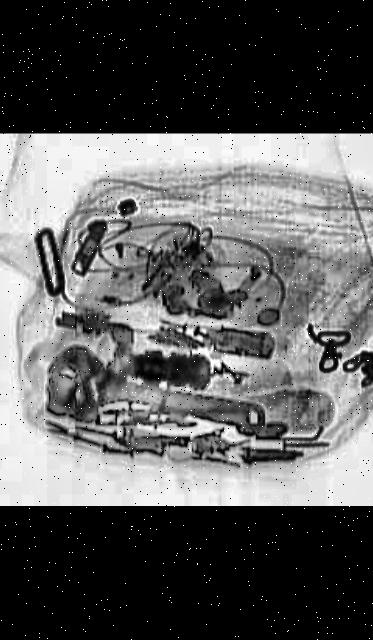Wrench: (30, 340, 287, 453)
